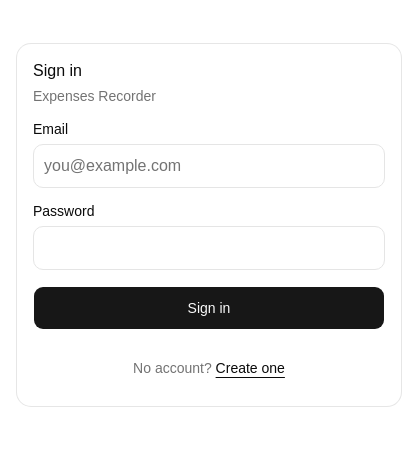
it: sign in (AC-5) › counts down on 429 rather than showing a generic error
In the field labelled "Email": (209, 166) x1=33 y1=144 x2=385 y2=188, type "someone@example.com"
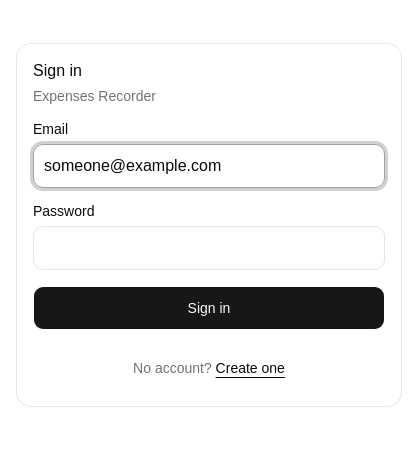
In the password field labelled "Password": (209, 248) x1=33 y1=226 x2=385 y2=270, type "correct-horse-battery"
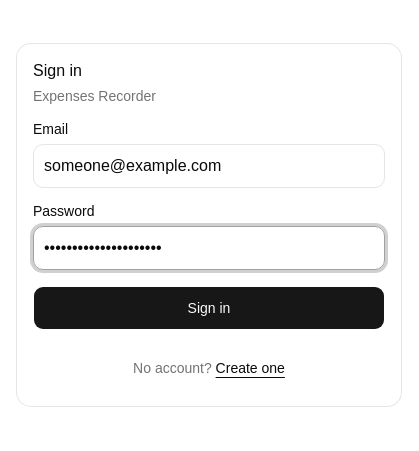
Click the button "Sign in": (209, 308) x1=33 y1=286 x2=385 y2=330
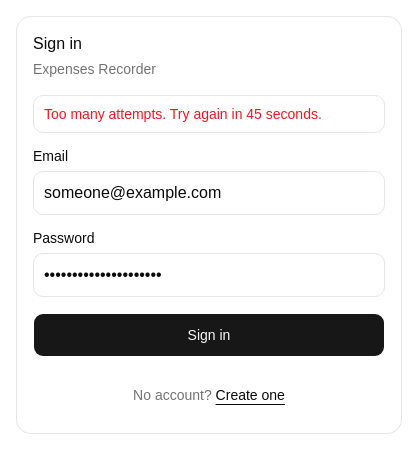
Result: the text "Too many attempts. Try again in 45 seconds." is shown at x1=44 y1=106 x2=322 y2=122
